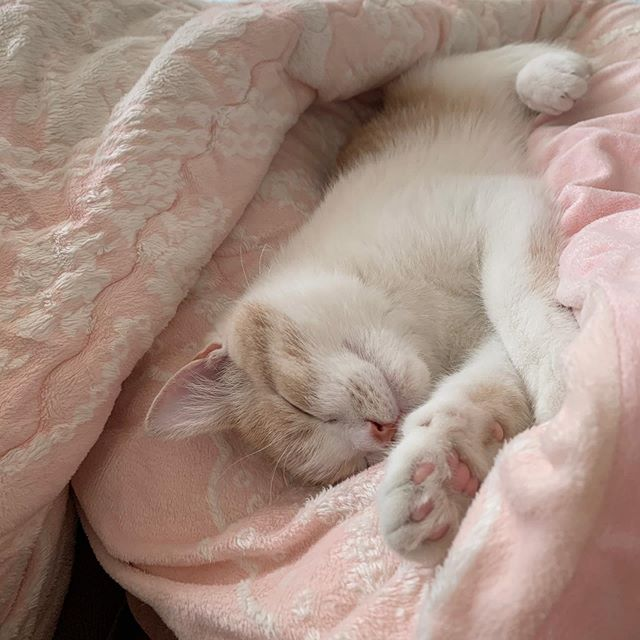cat: (150, 262, 411, 523)
